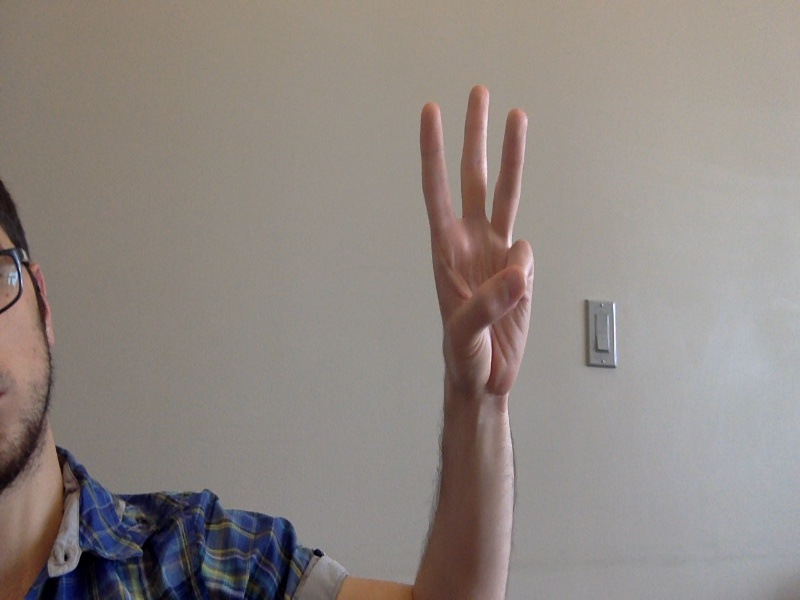3-hand: (419, 85, 535, 412)
